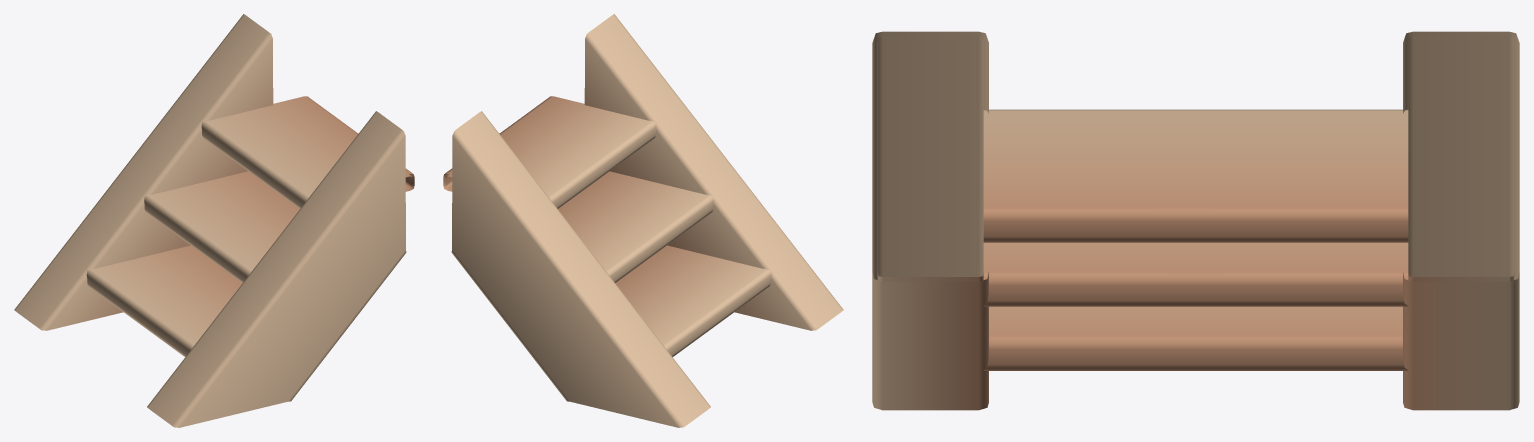
The model's file is Stairs_bottom.fbx.
The picture shows the model from 3 angles, left to right: view 1: azimuth 30°, elevation 25°; view 2: azimuth 150°, elevation 25°; view 3: azimuth 270°, elevation 25°; orthographic projection. The views are drawn at different scales.
Parts seen in each view (by area): view 1: Stairs_bottom; view 2: Stairs_bottom; view 3: Stairs_bottom.
Boxes of the visible parts, x1=… form: Stairs_bottom: x1=14, y1=14, x2=414, y2=427; Stairs_bottom: x1=443, y1=14, x2=843, y2=427; Stairs_bottom: x1=872, y1=31, x2=1519, y2=410.
Bounding box in the file's own units: 233 × 203 × 244.
